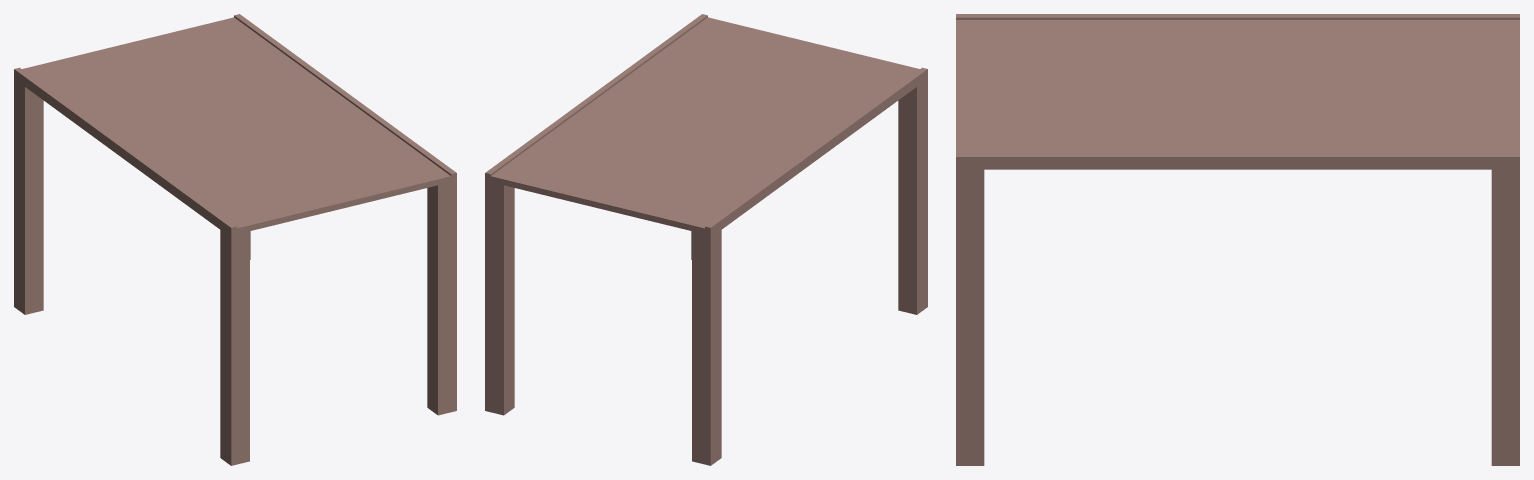
File: table.dae
The picture shows the model from 3 angles, left to right: view 1: azimuth 30°, elevation 25°; view 2: azimuth 150°, elevation 25°; view 3: azimuth 270°, elevation 25°; orthographic projection. The views are drawn at different scales.
Parts seen in each view (by area): view 1: obj1; view 2: obj1; view 3: obj1.
Part boxes in pixels (<box>): obj1: <box>14,14,456,465</box>; obj1: <box>485,14,927,465</box>; obj1: <box>956,14,1519,465</box>.
Size of the model in its own units: 0.6 by 1 by 0.605.
